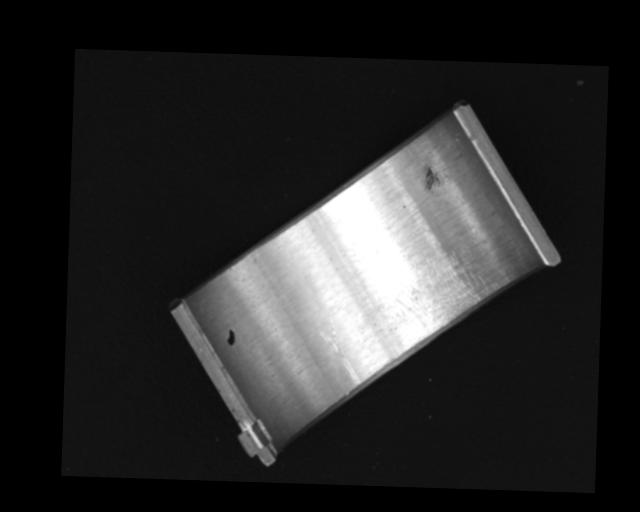blot: (226, 328, 237, 347)
bruise: (422, 166, 441, 195)
nick: (317, 315, 364, 385)
scratch: (376, 247, 510, 346)
